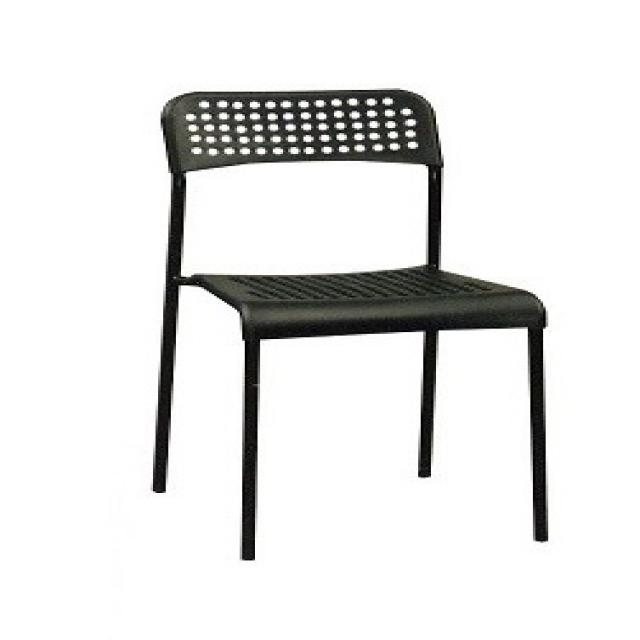Chair: (148, 83, 558, 564)
